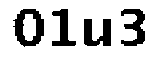0: (13, 5, 47, 52)
1: (52, 6, 79, 55)
3: (121, 5, 150, 49)
u: (83, 17, 119, 52)
